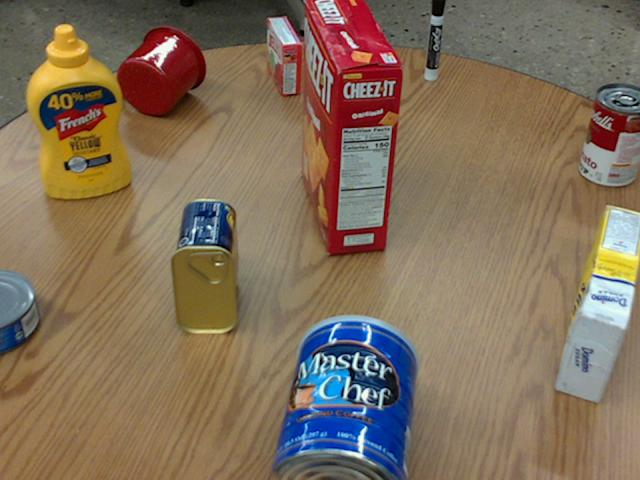cracker_box: (298, 0, 401, 252)
gelatin_box: (267, 17, 302, 94)
large_marker: (424, 0, 445, 79)
master_chef_can: (267, 314, 418, 479)
mug: (116, 25, 205, 114)
mustard_bottle: (26, 24, 129, 197)
potted_meat_can: (169, 197, 234, 333)
sugar_box: (556, 206, 639, 403)
tomato_soup_can: (577, 84, 639, 187)
tuna_fish_can: (0, 268, 38, 350)
